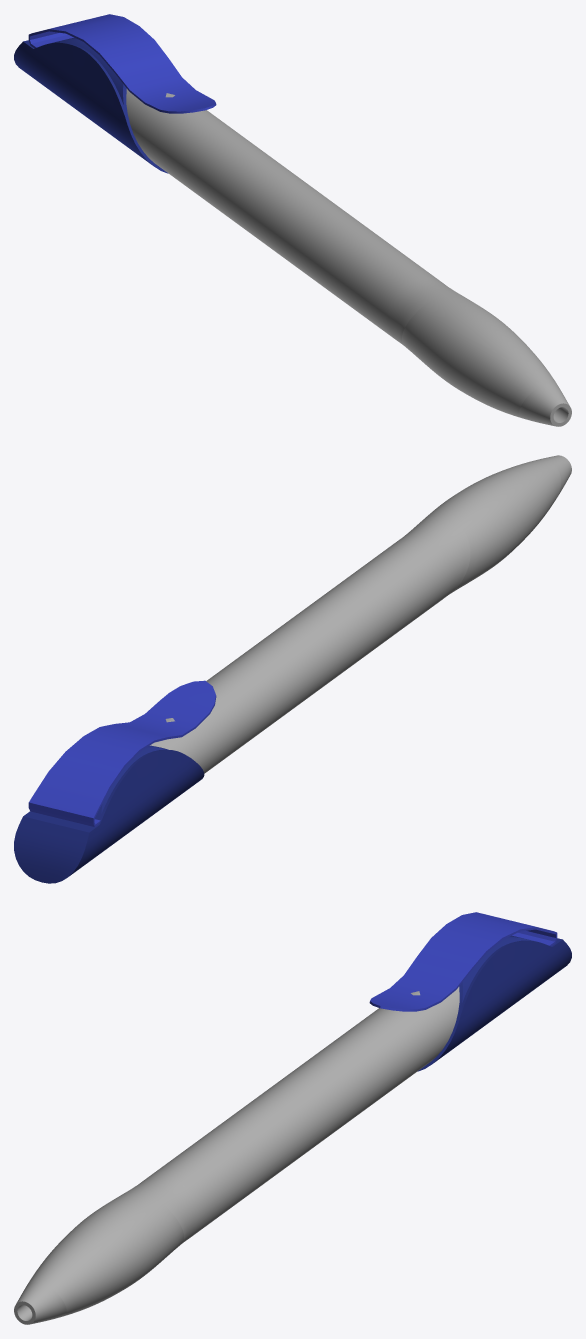
File: esfero.fbx
3 views of the same model, one above another, from view 1: azimuth 30°, elevation 25°; view 2: azimuth 150°, elevation 25°; view 3: azimuth 330°, elevation 25° (orthographic).
Parts seen in each view (by area): view 1: Plane.001; view 2: Plane.001; view 3: Plane.001.
Part boxes in pixels (x1,y1,x2,y2): Plane.001: [14, 14, 571, 426]; Plane.001: [14, 455, 571, 883]; Plane.001: [14, 912, 571, 1324].
Size of the model in its own units: 1.17 by 1.42 by 14.88.
